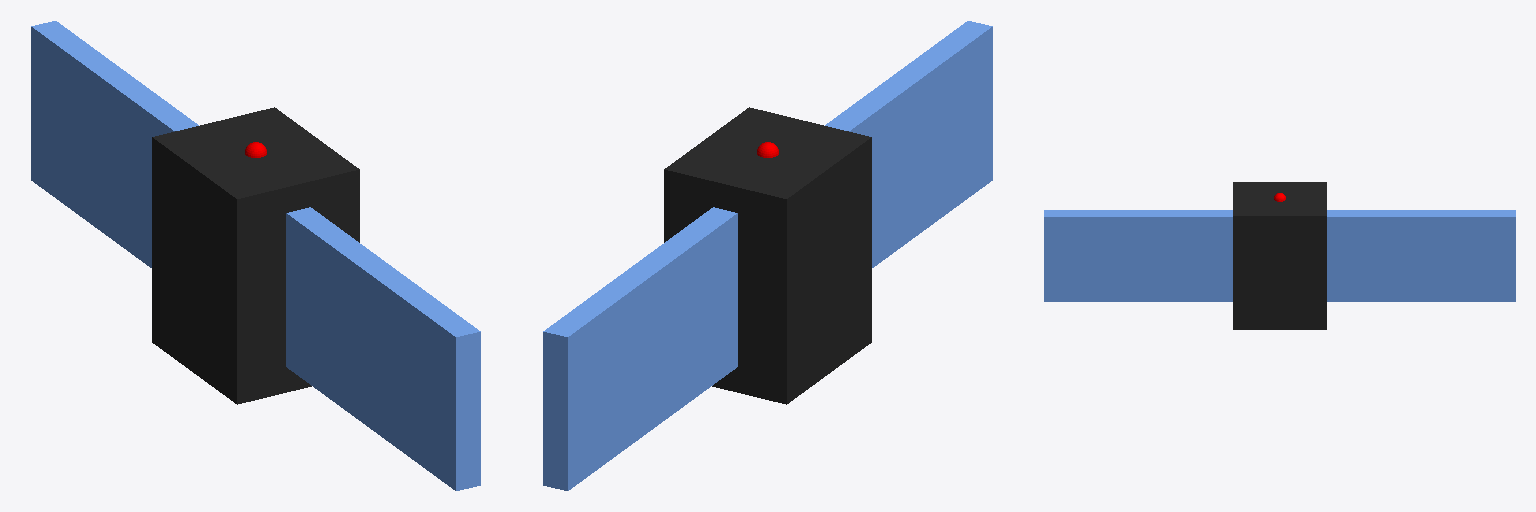
URDF robot description (Chaser):
<?xml version="1.0" ?>

<robot name="Chaser">

  <!-- Colors -->
  <material name="Grey">
    <color rgba="0.2 0.2 0.2 1.0"/>
  </material>
  <material name="Orange">
    <color rgba="1.0 0.423529411765 0.0392156862745 1.0"/>
  </material>
  <material name="Blue">
  <color rgba="0.5 0.7 1.0 1.0"/>      
  </material>
  <material name="Red">
    <color rgba="1 0 0 1.0"/>      
  </material>



  <!--Spacecraft-->
  <link name="Spacecraft">
    <inertial>
      <origin rpy="0 0 0" xyz="0 0 0"/>
      <mass value="100"/>
      <inertia ixx="0" ixy="0" ixz="0" iyy="0" iyz="0" izz="0"/>
    </inertial>
    <visual>
      <origin rpy="0 0 0" xyz="0 0 0"/>
      <geometry>
        <box size="1.25 1.5 2" />
      </geometry>
      <material name="Grey"/>
    </visual>
  </link>
  <!-- Joint to Left Solar Panel -->
  <joint name="Spacecraft_Left_Panel" type="fixed">
    <parent link="Spacecraft"/>
    <child link="Left_Panel"/>
    <origin rpy="0 0 0" xyz="0 -0.75 0"/>
    <axis xyz="0 0 1"/>
  </joint>
  <!-- Joint to Right Solar Panel -->
  <joint name="Spacecraft_Right_Panel" type="fixed">
    <parent link="Spacecraft"/>
    <child link="Right_Panel"/>
    <origin rpy="0 0 0" xyz="0 0.75 0"/>
    <axis xyz="0 0 1"/>
  </joint>

  <!-- Joint to Grappling fixture -->
  <joint name="Spacecraft_Fixture" type="fixed">
    <parent link="Spacecraft"/>
    <child link="Fixture"/>
    <origin rpy="0 0 0" xyz="0 0 1"/>
    <axis xyz="0 0 1"/>
  </joint>


  <!-- Left Solar Panel-->
  <link name="Left_Panel">
    <inertial>
      <origin rpy="0 0 0" xyz="0 -1.5 0"/>
      <mass value="20"/>
      <inertia ixx="0" ixy="0" ixz="0" iyy="0" iyz="0" izz="0"/>
    </inertial>
    <visual>
      <origin rpy="0 0 0" xyz="0 -1.5 0"/>
      <geometry>
        <box size="0.25 3 1.5"/>
      </geometry>
      <material name="Blue"/>
    </visual>
  </link>

  <!-- Right Solar Panel-->
  <link name="Right_Panel">
    <inertial>
      <origin rpy="0 0 0" xyz="0 1.5 0"/>
      <mass value="20"/>
      <inertia ixx="0" ixy="0" ixz="0" iyy="0" iyz="0" izz="0"/>
    </inertial>
    <visual>
      <origin rpy="0 0 0" xyz="0 1.5 0"/>
      <geometry>
        <box size="0.25 3 1.5"/>
      </geometry>
      <material name="Blue"/>
    </visual>
  </link>

  <!-- Grappling Fixture-->
  <link name="Fixture">
    <inertial>
      <origin rpy="0 0 0" xyz="0 0 0"/>
      <mass value="20"/>
      <inertia ixx="0" ixy="0" ixz="0" iyy="0" iyz="0" izz="0"/>
    </inertial>
    <visual>
      <origin rpy="0 0 0" xyz="0 0 0"/>
      <geometry>
        <sphere radius="0.1"/>
      </geometry>
      <material name="Red"/>
    </visual>
  </link>
  
  
</robot>


--- What the picture shows (computed from the rendered views, not written in the file) ---
3 views of the same robot in one strip: view 1: azimuth 30°, elevation 25°; view 2: azimuth 150°, elevation 25°; view 3: azimuth 270°, elevation 25° (orthographic).
Robot: Chaser — 4 links, 3 joints (3 fixed); root link Spacecraft; default pose: all joints at 0.
Visible links, largest first — view 1: Spacecraft, Left_Panel, Right_Panel; view 2: Spacecraft, Right_Panel, Left_Panel; view 3: Left_Panel, Right_Panel, Spacecraft.
Link boxes in pixels (x1,y1,x2,y2): Spacecraft: (152, 107, 359, 404); Left_Panel: (286, 207, 480, 490); Right_Panel: (31, 21, 198, 267); Spacecraft: (664, 107, 871, 404); Right_Panel: (543, 207, 737, 490); Left_Panel: (825, 21, 992, 267); Left_Panel: (1044, 210, 1232, 301); Right_Panel: (1327, 210, 1515, 301); Spacecraft: (1233, 182, 1326, 329).
Size in the robot's own frame: 1.25 by 7.5 by 2.1 metres.
Geometry: primitives only (box / cylinder / sphere), no mesh files.